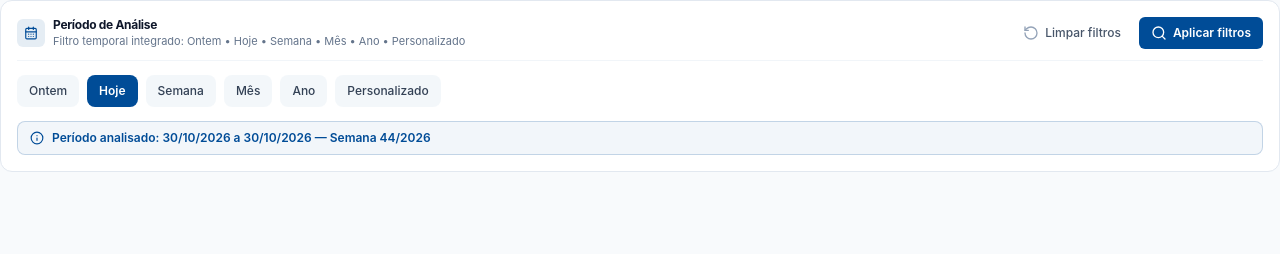
Test: Suíte de Aceite Completa — Cenários 1 a 12: Período de Análise (Previsto x Realizado) › Cenário 7: Seleção Personalizado exibe inputs pt-BR e valida fim >= início
Click the button with test id "period-btn-personalizado": (388,90) top-left (335, 74), bottom-right (441, 106)
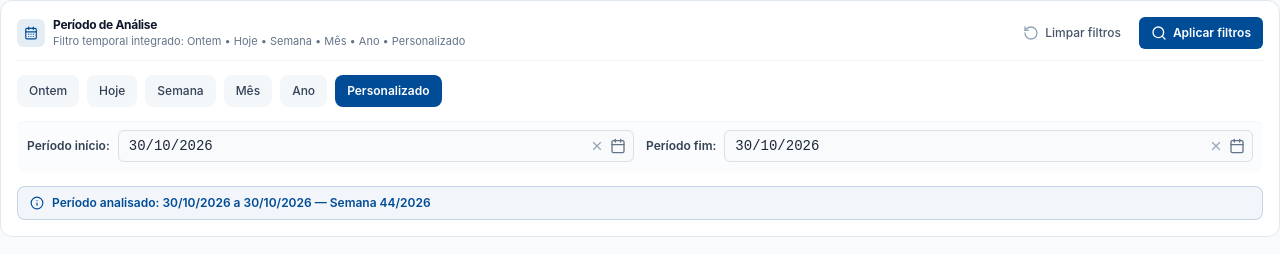
Now the element with test id "period-line2-personalizado" is shown, box top-left (17, 120), bottom-right (1263, 172)
Now the text "Período início:" is shown, box top-left (27, 138), bottom-right (110, 154)
Now the text "Período fim:" is shown, box top-left (646, 138), bottom-right (716, 154)
